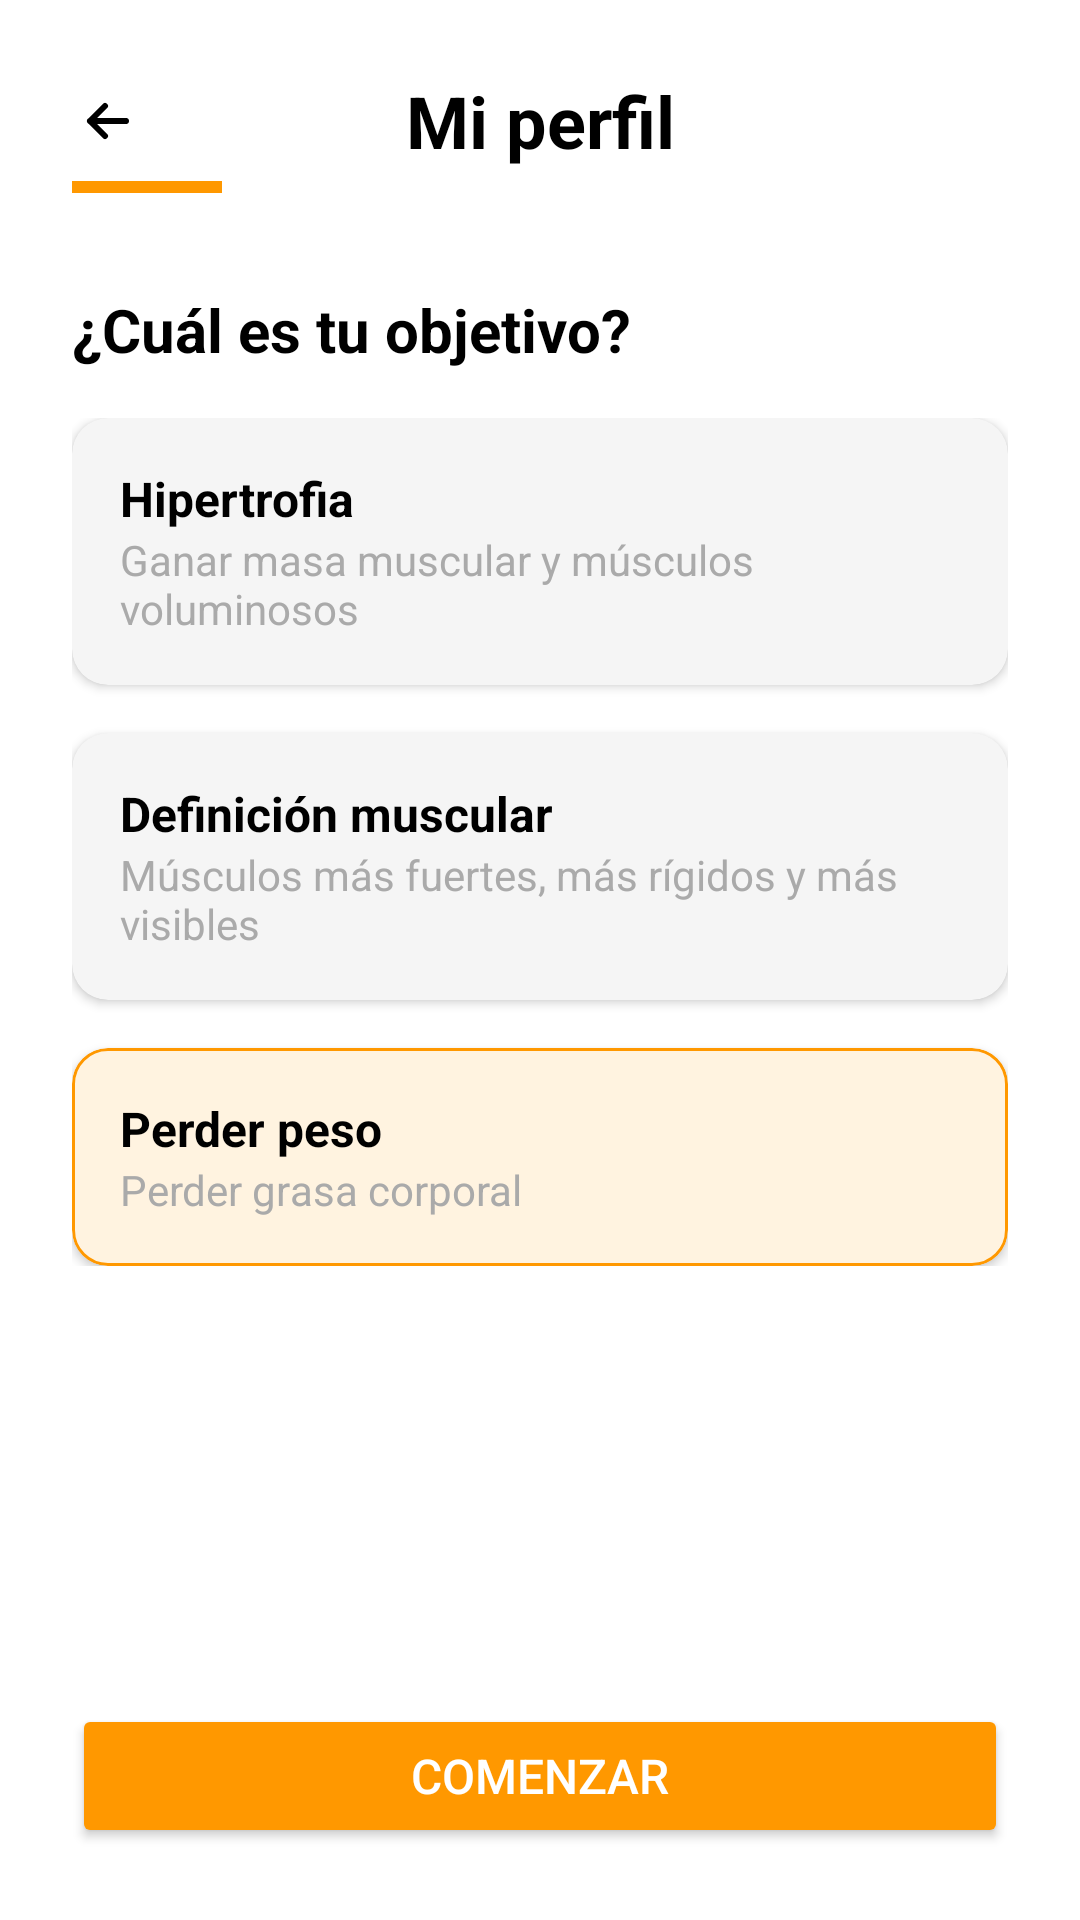

Icon click points for this 1080x1920 phone screenshot, format (x,y):
Volver: (108,121)
